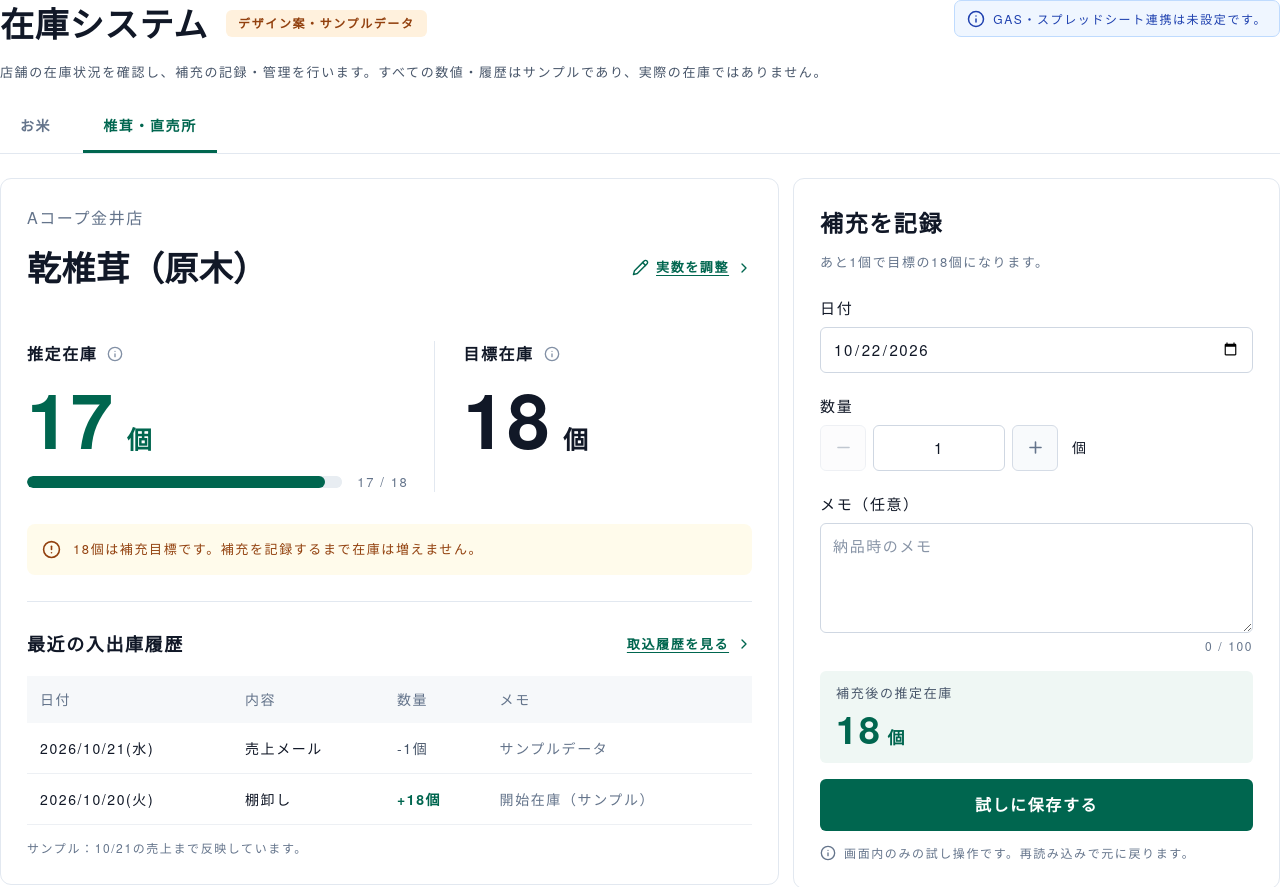
Scenario: previews quantity changes and records the sample restock
Click the button named "数量を1個増やす" at x=1035, y=448, box x1=1012 y1=425 x2=1058 y2=471
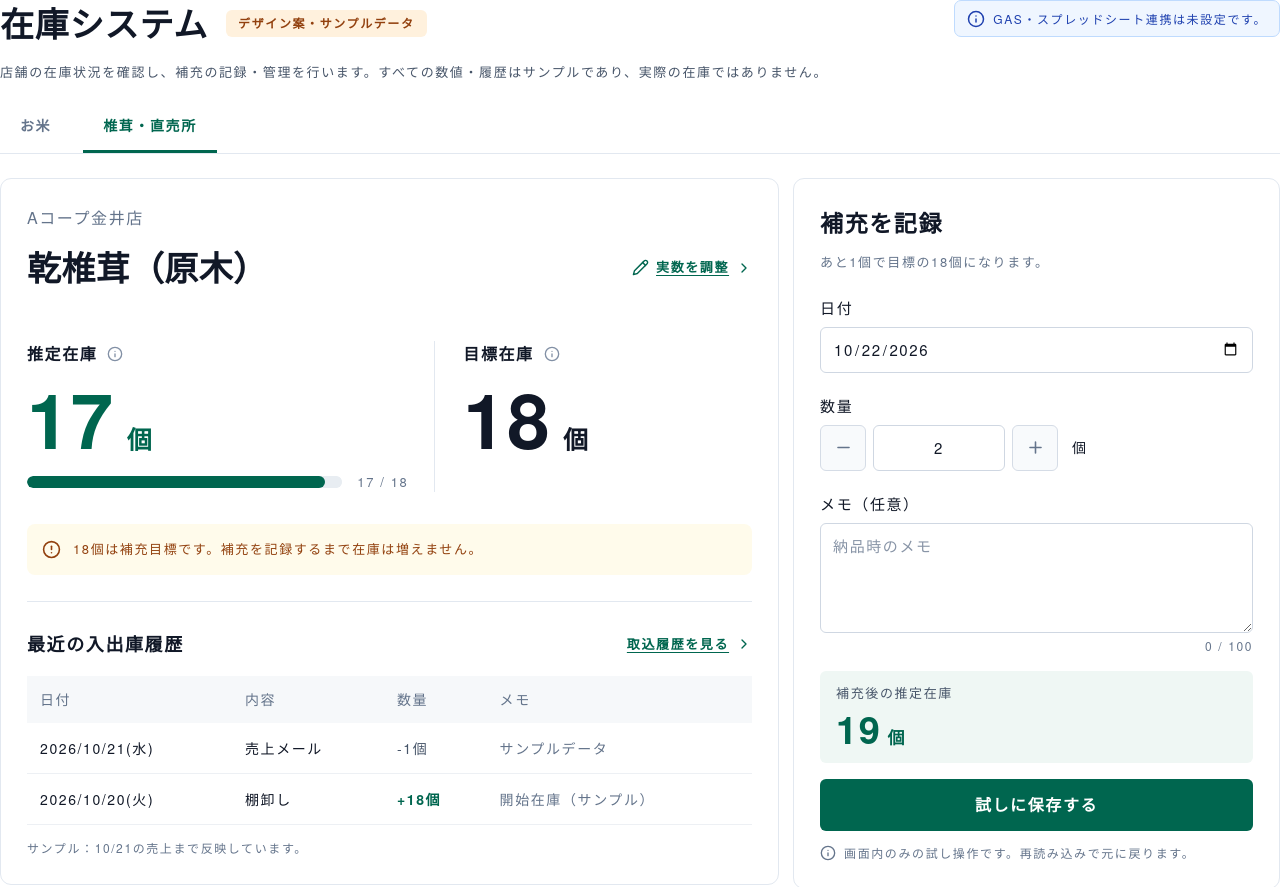
Expected: the number field labelled "数量" holds "2", x1=873 y1=425 x2=1005 y2=471
Type "2個補充の試し操作" into the text box labelled "メモ（任意）" at x=1037, y=578, box x1=820 y1=523 x2=1253 y2=633
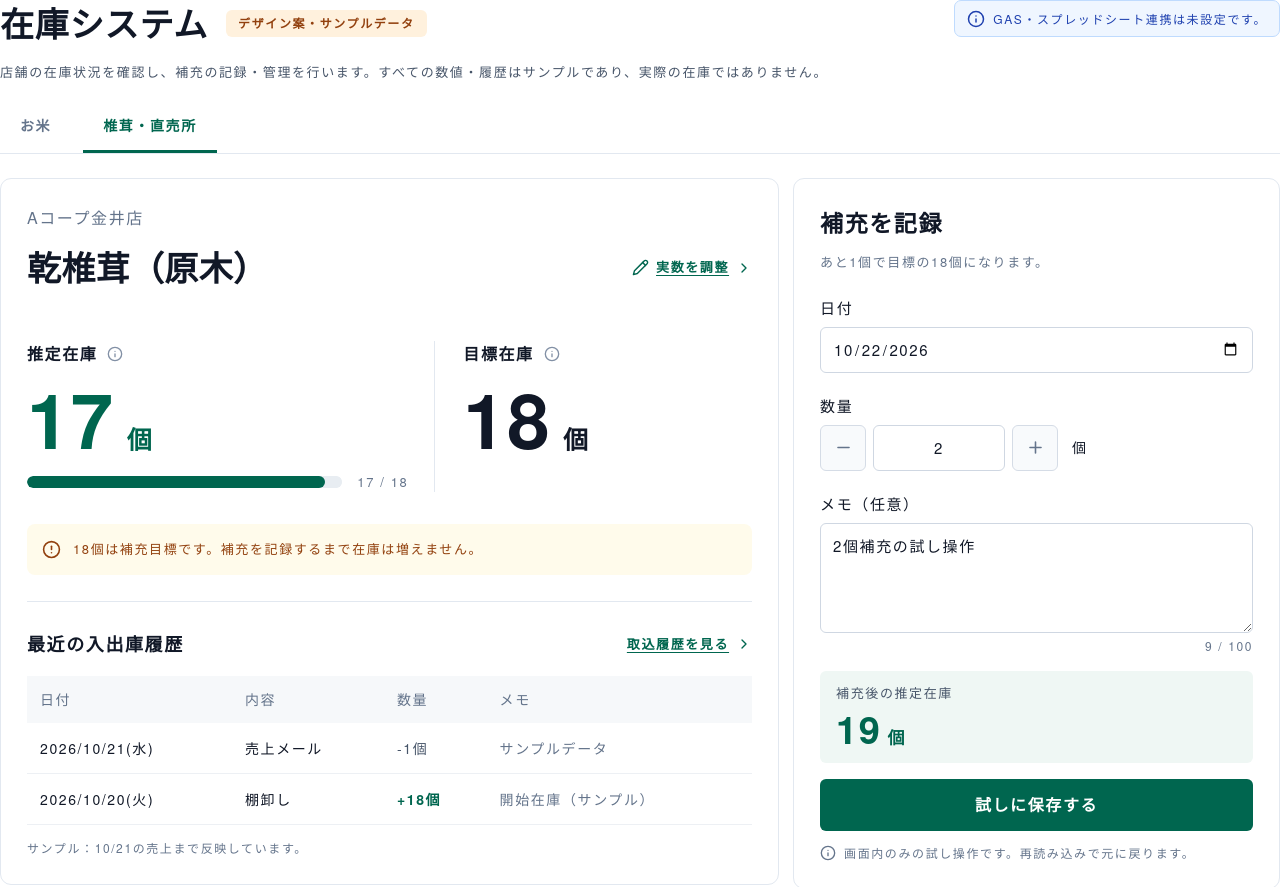
Click the button "試しに保存する" at x=1037, y=805, box x1=820 y1=779 x2=1253 y2=831
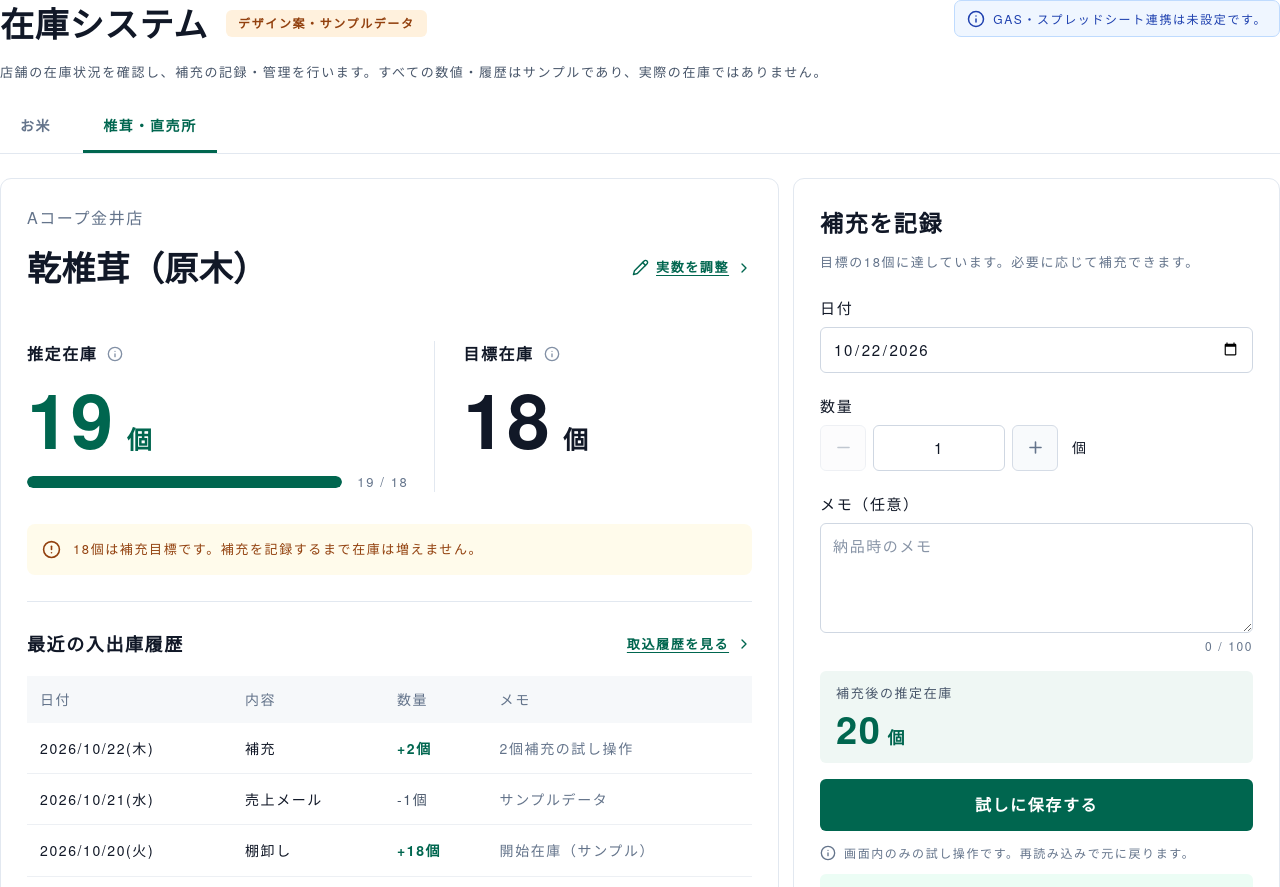
Expected: the text "+2個" is shown, x1=384 y1=722 x2=487 y2=773
Expected: the text "目標の18個に達しています。必要に応じて補充できます。" is shown, x1=820 y1=252 x2=1253 y2=273
